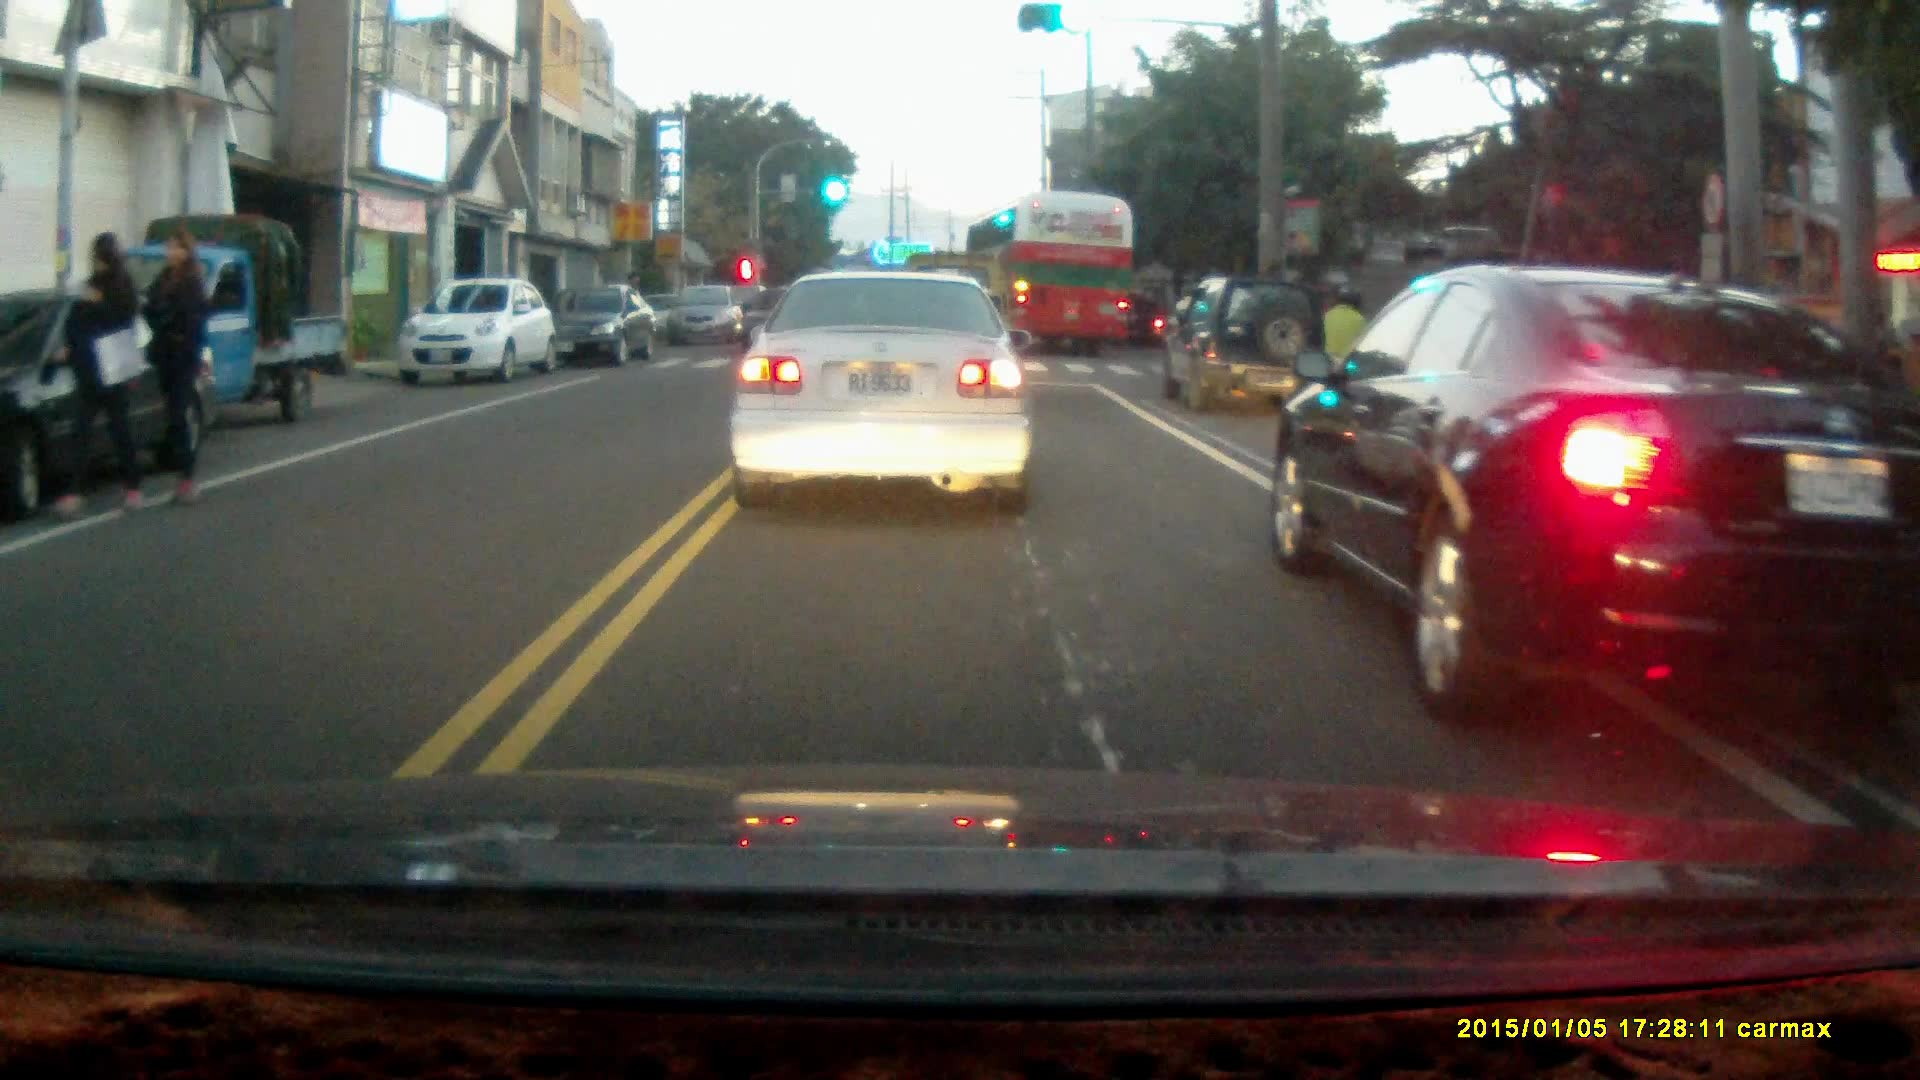pedestrian: (56, 231, 149, 514), (142, 228, 213, 508)
rider: (1317, 284, 1377, 415), (1116, 292, 1166, 351)
vehicle: (1270, 268, 1920, 718), (728, 266, 1035, 517), (95, 213, 348, 425), (1, 283, 218, 514), (963, 195, 1133, 359), (1163, 275, 1331, 417), (399, 279, 554, 386), (548, 280, 662, 370), (663, 286, 747, 352)
